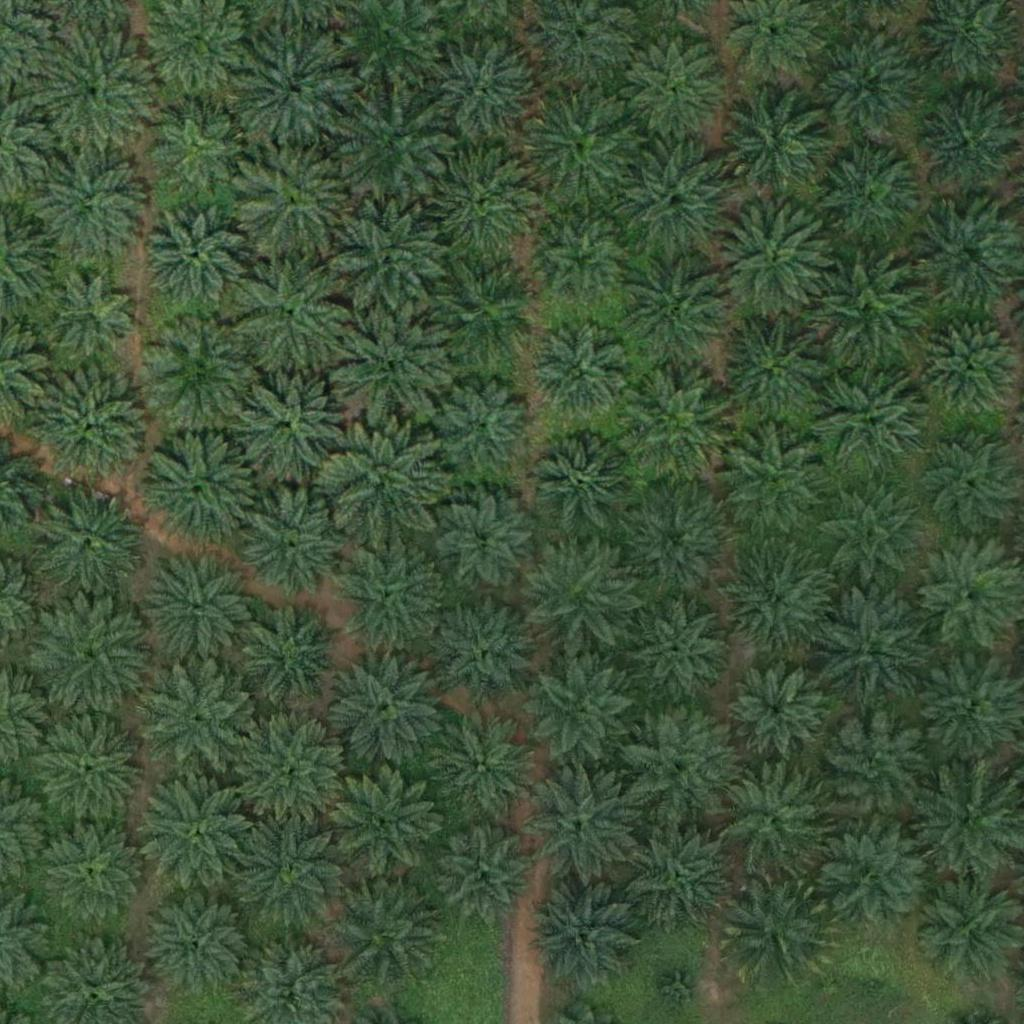Kelapa_Sawit: (336, 84, 449, 198), (621, 250, 734, 364), (719, 426, 832, 540), (812, 481, 925, 595), (814, 591, 927, 705), (722, 546, 835, 660), (142, 776, 255, 890), (235, 32, 348, 145), (35, 370, 148, 483), (145, 429, 258, 542), (236, 145, 349, 258), (331, 204, 444, 317), (333, 310, 446, 423), (327, 425, 440, 538), (525, 83, 638, 196), (622, 143, 735, 256), (716, 204, 829, 317), (718, 313, 831, 426), (818, 712, 931, 825), (526, 656, 639, 769), (526, 769, 639, 882), (529, 884, 642, 997), (424, 705, 537, 818), (240, 716, 353, 829), (234, 811, 347, 924), (141, 551, 254, 664), (145, 667, 258, 780), (32, 486, 145, 599), (37, 600, 150, 713), (424, 35, 536, 149), (432, 143, 544, 257), (622, 375, 734, 489), (38, 714, 150, 828), (720, 873, 832, 986), (811, 30, 923, 143), (38, 34, 150, 147), (32, 152, 144, 265), (144, 315, 256, 428), (238, 257, 350, 370), (236, 363, 348, 476), (429, 258, 541, 371), (618, 484, 730, 597), (719, 84, 831, 197), (809, 137, 921, 250), (808, 253, 920, 366), (816, 367, 928, 480), (911, 200, 1023, 313), (823, 819, 935, 932), (718, 763, 830, 876), (618, 709, 730, 822), (622, 816, 734, 929), (521, 538, 633, 651), (333, 542, 445, 655), (330, 653, 442, 766), (335, 765, 447, 878), (334, 872, 446, 985), (240, 487, 352, 600), (626, 38, 726, 139), (43, 270, 143, 371), (147, 92, 247, 193), (143, 203, 243, 304), (433, 375, 533, 476), (435, 494, 535, 595), (535, 436, 635, 537), (917, 92, 1017, 193), (920, 315, 1020, 416), (727, 660, 827, 761), (629, 601, 729, 702), (435, 598, 535, 699), (436, 825, 536, 926), (245, 604, 345, 705), (530, 323, 630, 423), (150, 893, 250, 993), (43, 824, 143, 924), (536, 220, 624, 308), (656, 963, 706, 1014), (847, 956, 897, 1006)
